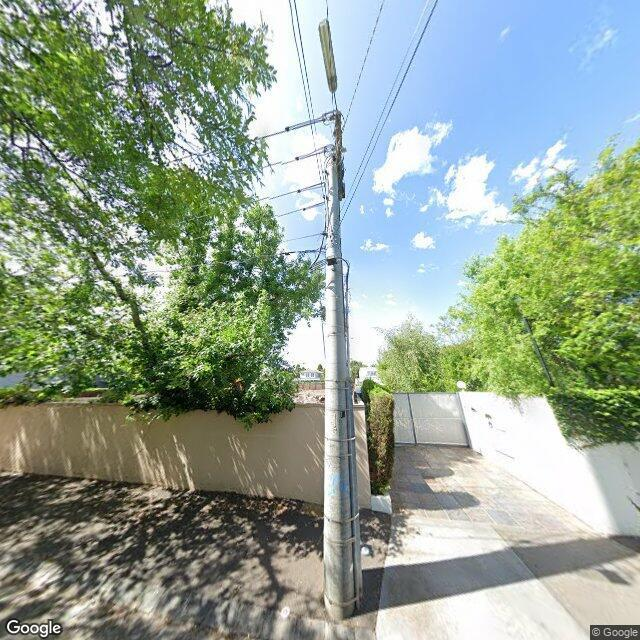concrete-pole: (324, 153, 359, 620)
crossarm: (334, 110, 344, 200)
streetlight: (318, 19, 338, 110)
